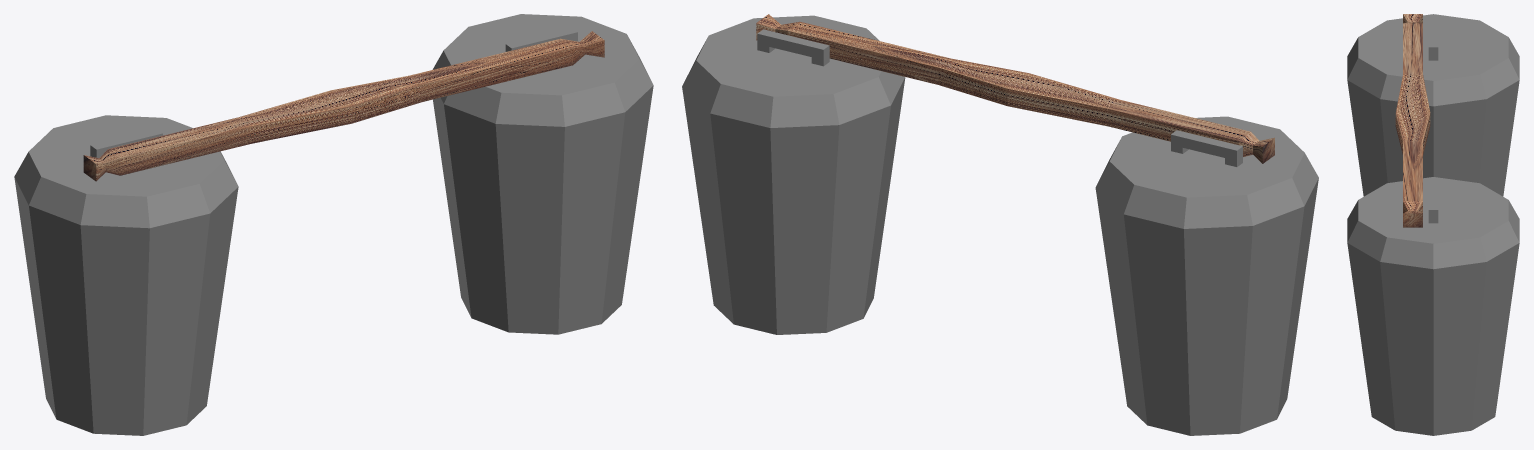
File: TAHO.fbx
3 views of the same model, side by side, from view 1: azimuth 30°, elevation 25°; view 2: azimuth 150°, elevation 25°; view 3: azimuth 270°, elevation 25° (orthographic). The views are drawn at different scales.
Visible parts, largest first — view 1: pCylinder15; view 2: pCylinder15; view 3: pCylinder15.
Part boxes in pixels (left/top/right/bottom): pCylinder15: left=14, top=14, right=653, bottom=435; pCylinder15: left=682, top=14, right=1318, bottom=435; pCylinder15: left=1347, top=14, right=1519, bottom=435.
Size of the model in its own units: 4.92 by 2.04 by 1.5.
Materials: 2 (1 with a texture image).
